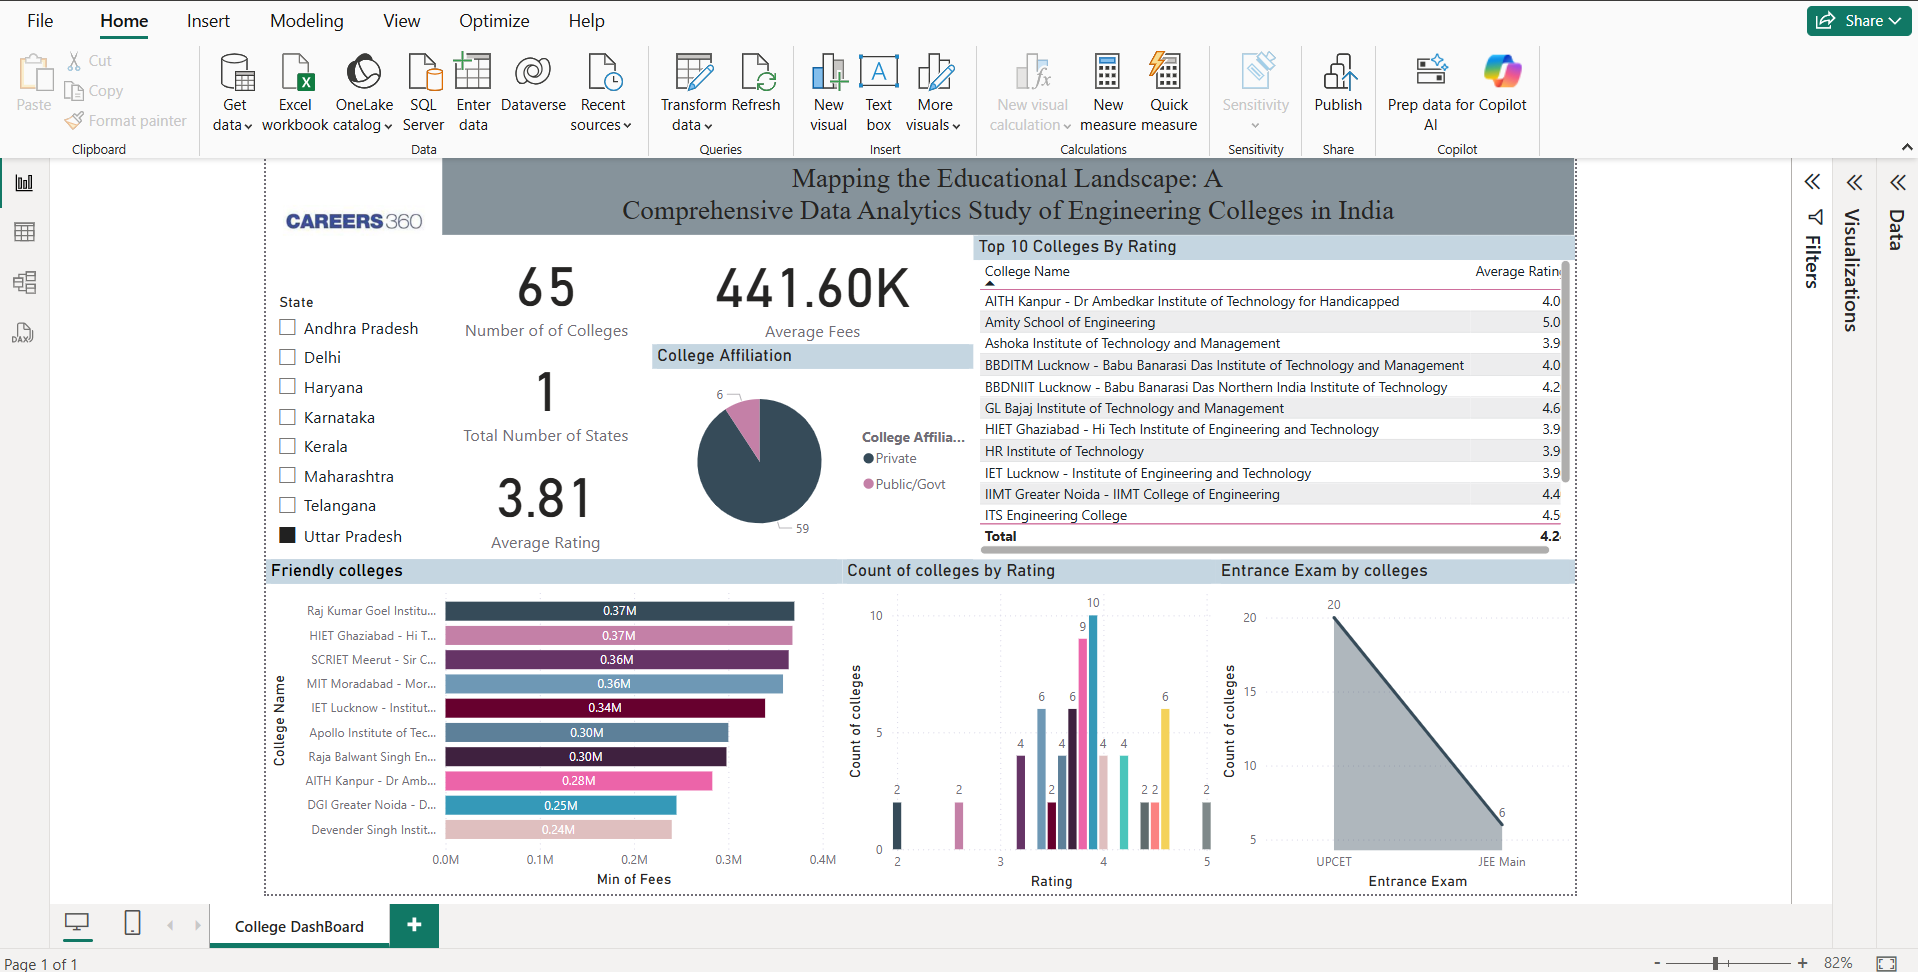

The page's visual inventory and layout, read from the dashboard file:
{"tool":"powerbi","page":{"name":"College DashBoard","canvas":[1280,720],"ordinal":0},"visuals":[{"type":"card","fields":{"Values":["Sheet.Average_Fees"]},"box":[377.4,75.5,314.2,109.8],"z":0},{"type":"card","fields":{"Values":["College_data.Count_ccolleges"]},"box":[172.4,75.8,204.2,107.6],"z":1000},{"type":"card","fields":{"Values":["College_data.no_stares"]},"box":[172.9,182.5,203.1,100.2],"z":2000},{"type":"slicer","fields":{"Values":["College_data.State"]},"box":[0,127.6,172.9,264.8],"z":3000},{"type":"textbox","box":[172.9,0,1107.4,75.5],"z":4000},{"type":"pieChart","title":"College Affiliation","fields":{"Category":["College_data.College Affiliation"],"Y":["College_data.Number of of Colleges"]},"box":[377.4,182.5,314.2,209.9],"z":5000},{"type":"card","fields":{"Values":["College_data.Average Rating"]},"box":[172.9,282.7,203.1,108.4],"z":6000},{"type":"columnChart","title":"Count of colleges by Rating","fields":{"Category":["Sheet.Rating"],"Y":["CountNonNull(Sheet.College Name)"],"Series":["Sheet.Rating"]},"box":[563.7,392.5,365.6,327.7],"z":7000},{"type":"barChart","title":"Friendly colleges","fields":{"Category":["College_data.College Name"],"Series":["College_data.College Name"],"Y":["Min(College_data.Fees)"]},"box":[0,392.5,563.7,326.5],"z":8000},{"type":"stackedAreaChart","title":"Entrance Exam by colleges","fields":{"Category":["Sheet.Entrance Exam"],"Y":["Count(College_data.College Name)"]},"box":[929.4,392.5,351,327.7],"z":9000},{"type":"image","box":[0,0,172.4,122.3],"z":10000},{"type":"tableEx","title":"Top 10 Colleges By Rating","fields":{"Values":["College_data.College Name","College_data.Average Rating"]},"box":[691.6,75.5,588.7,317],"z":11000}]}

Visuals, with their boxes on the page's 1280x720 design canvas (x1, y1, x2, y2). These are canvas units, not pixel positions in the 1918x972 screenshot, which may show the page scaled, cropped or inside an application window:
card - Sheet.Average_Fees: rect(377, 76, 692, 185)
card - College_data.Count_ccolleges: rect(172, 76, 377, 183)
card - College_data.no_stares: rect(173, 182, 376, 283)
slicer - College_data.State: rect(0, 128, 173, 392)
textbox: rect(173, 0, 1280, 76)
"College Affiliation" pieChart: rect(377, 182, 692, 392)
card - College_data.Average Rating: rect(173, 283, 376, 391)
"Count of colleges by Rating" columnChart: rect(564, 392, 929, 720)
"Friendly colleges" barChart: rect(0, 392, 564, 719)
"Entrance Exam by colleges" stackedAreaChart: rect(929, 392, 1280, 720)
image: rect(0, 0, 172, 122)
"Top 10 Colleges By Rating" tableEx: rect(692, 76, 1280, 392)
